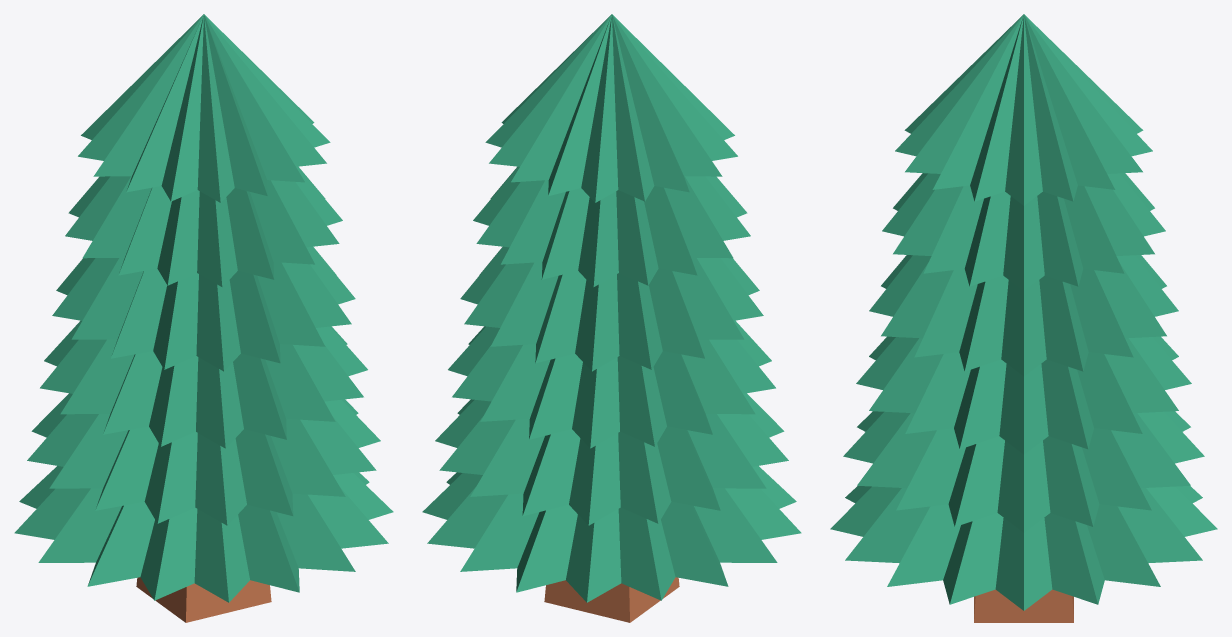
Rendered from сhristmas_tree_2.fbx.
The picture shows the model from 3 angles, left to right: view 1: azimuth 30°, elevation 25°; view 2: azimuth 150°, elevation 25°; view 3: azimuth 270°, elevation 25°; orthographic projection.
Visible parts, largest first — view 1: сhristmas_tree; view 2: сhristmas_tree; view 3: сhristmas_tree.
Boxes of the visible parts, x1,y1,x2,y2 form: сhristmas_tree: [14, 14, 393, 622]; сhristmas_tree: [422, 14, 801, 622]; сhristmas_tree: [830, 14, 1217, 622].
Bounding box in the file's own units: 96.77 × 162 × 96.77.
